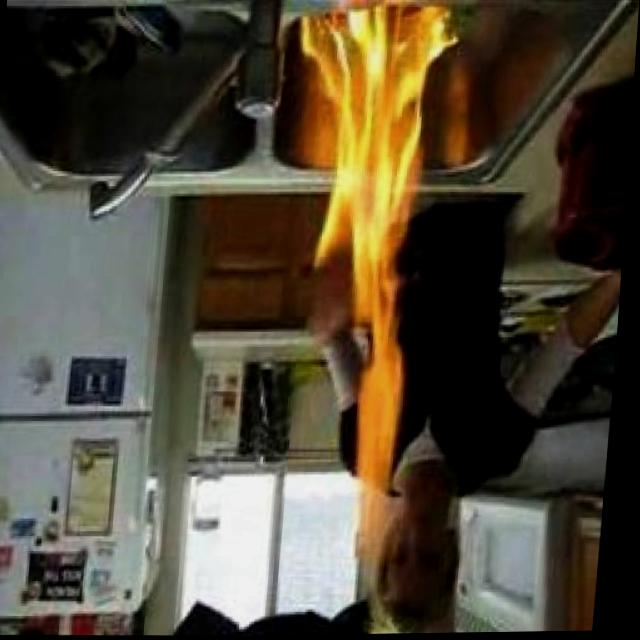Fire: (285, 4, 444, 531)
